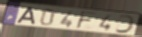0: (40, 8, 57, 26)
4: (97, 14, 114, 32), (58, 10, 74, 29)
A: (16, 6, 37, 25)
D: (113, 14, 136, 34)
F: (75, 11, 99, 31)
